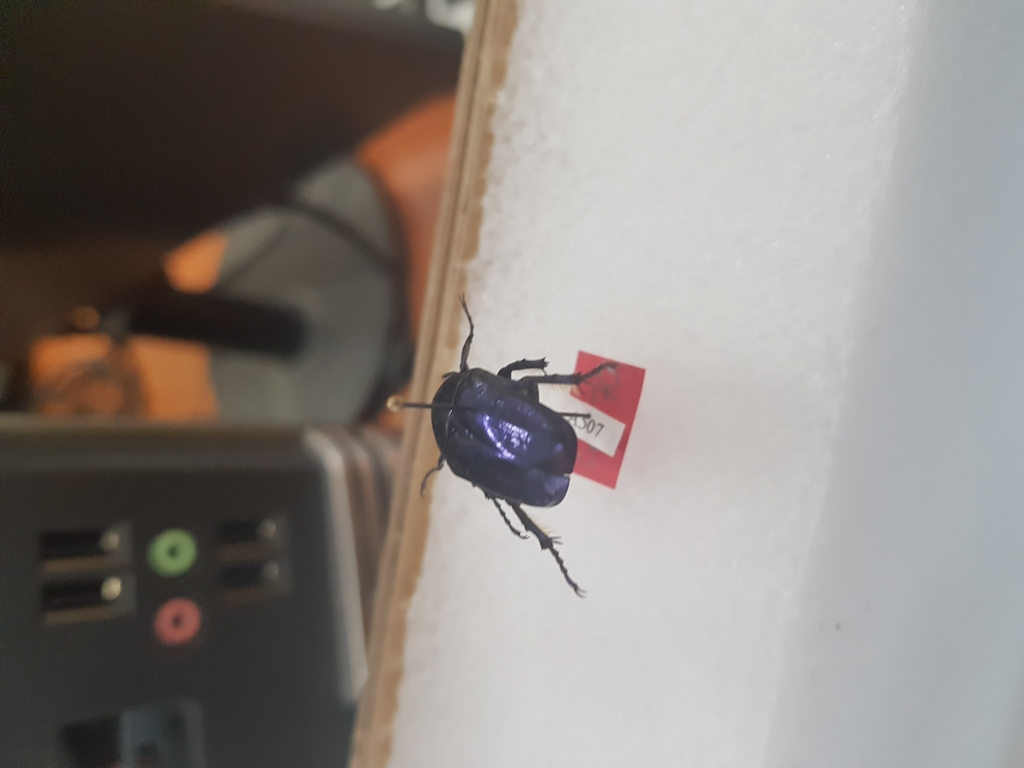Protaetia_besucheti: (402, 275, 626, 610)
